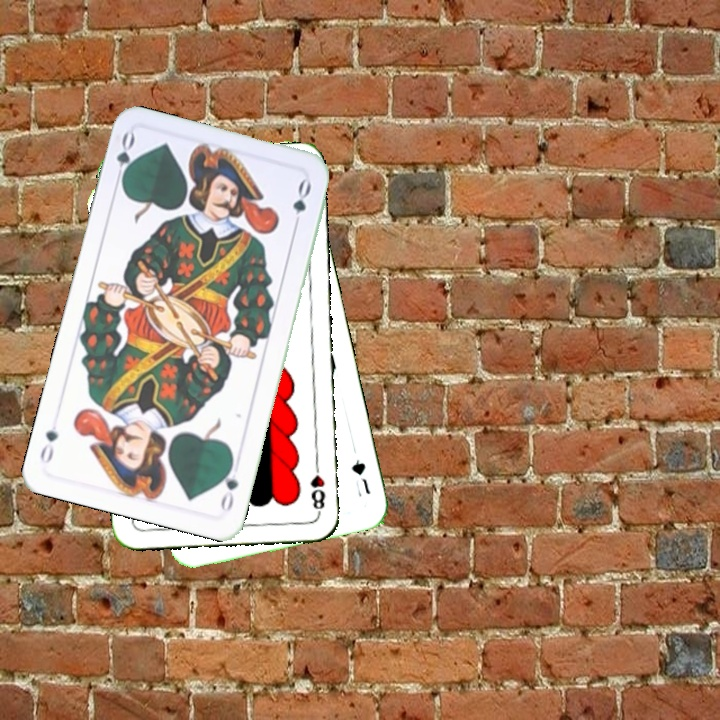GO: (111, 128, 138, 189), (216, 456, 241, 514)
GU: (347, 456, 373, 497)
H8: (306, 457, 328, 516)
